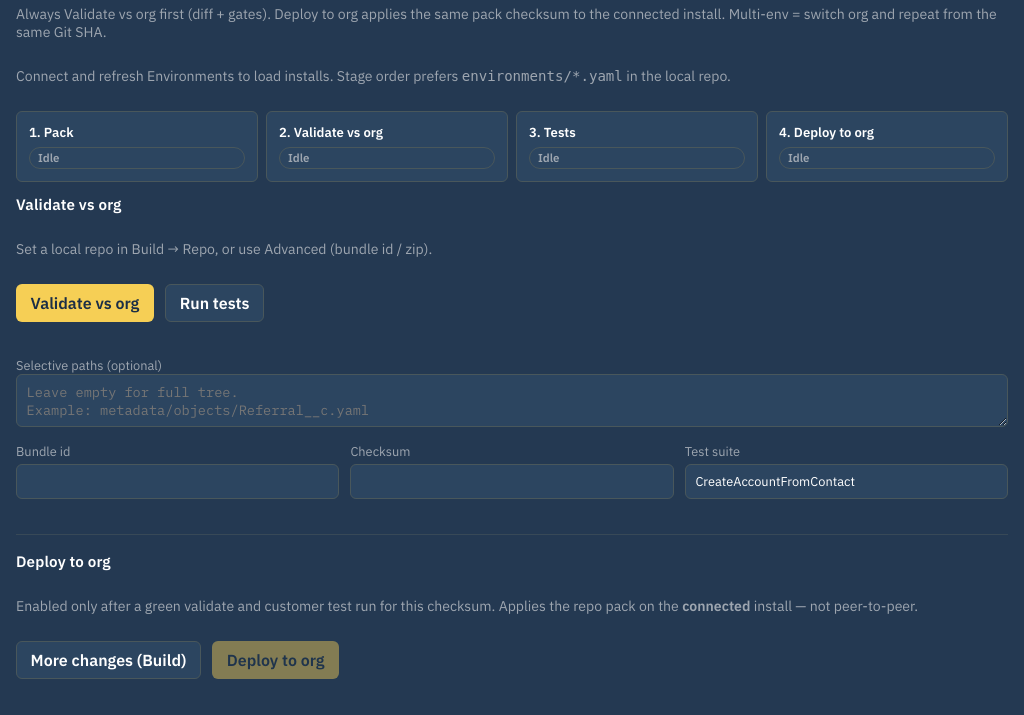
Test case: DeployPanel › requires repo or bundle id before validate vs org
What coordinates should you click on to do the following:
click the button with test id "validate-vs-org"
I would click on:
 (85, 303)
Its box is [16,284,154,322].
(page scrolled)
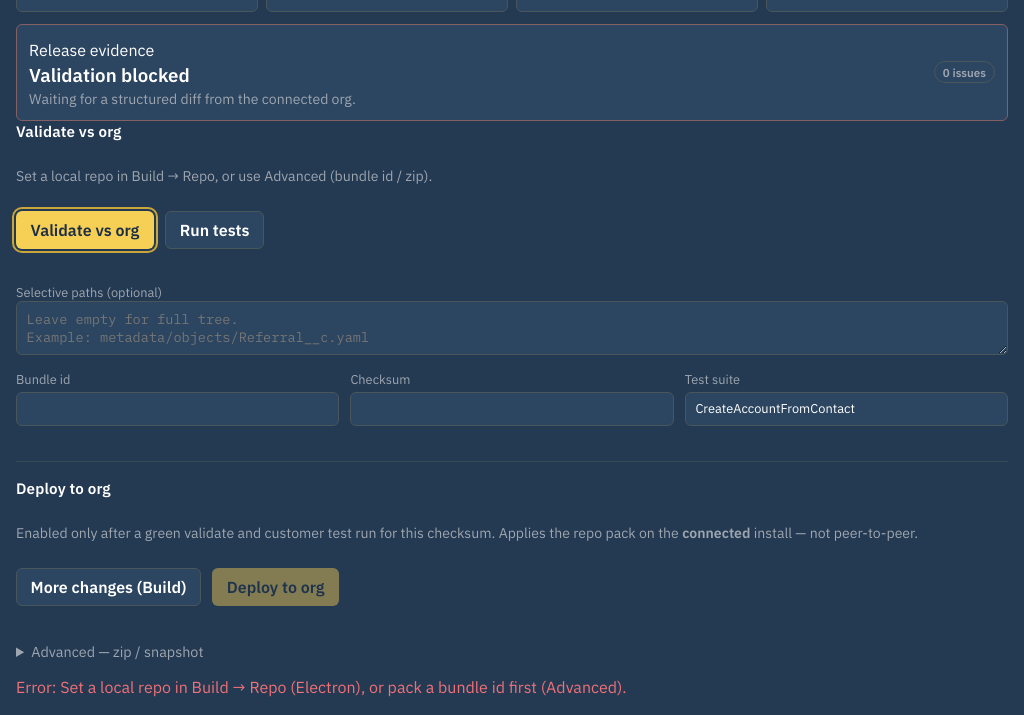
Check: the text "pack a bundle id first" is shown, box [16,677,627,697]
